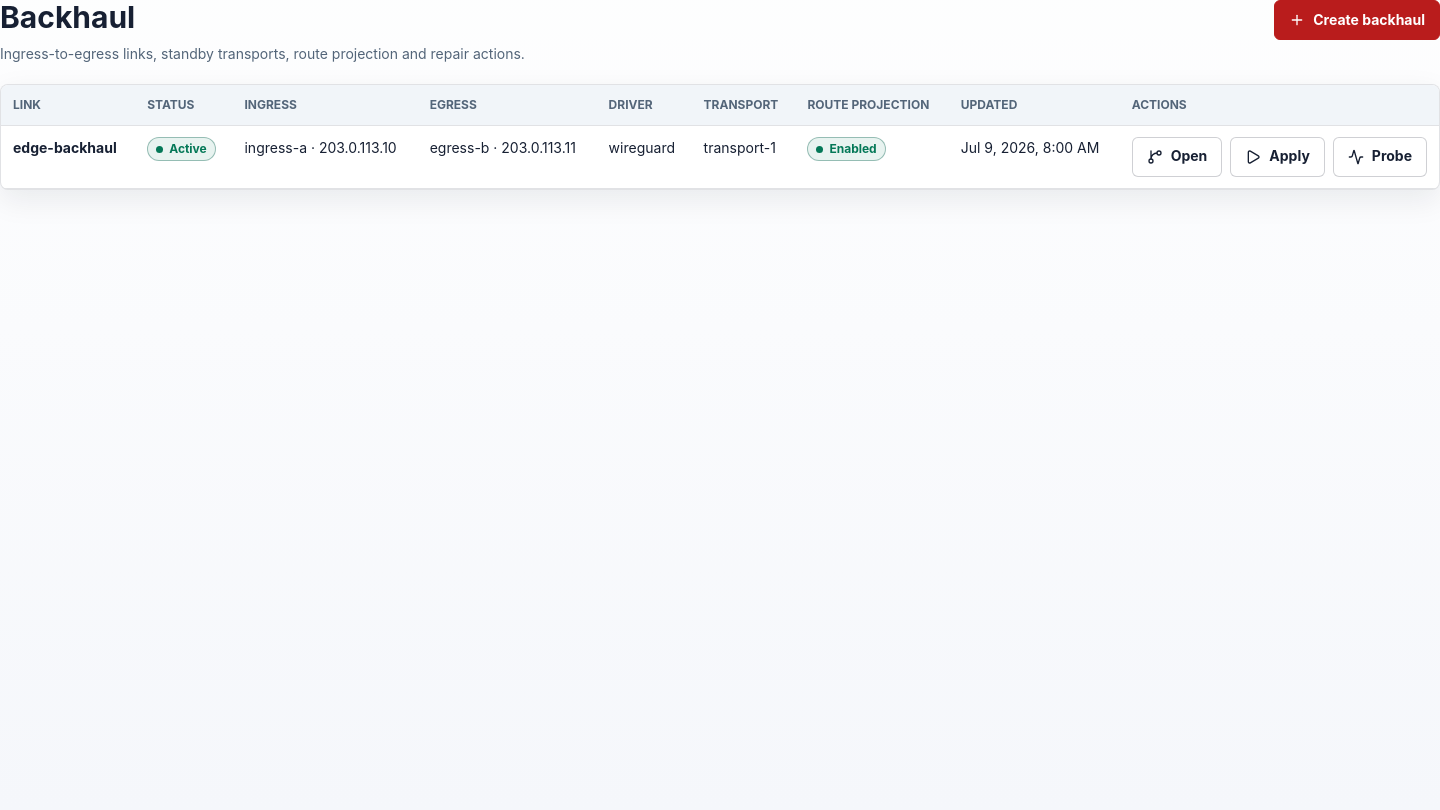
Test case: Backhaul and RoutePolicy workflows › removes a Backhaul link only after explicit confirmation
The image size is (1440, 810).
Expected: the text "edge-backhaul" is shown, [13,138,117,156]
Click the button "Open".
click(1177, 156)  # box [1132,136,1222,176]
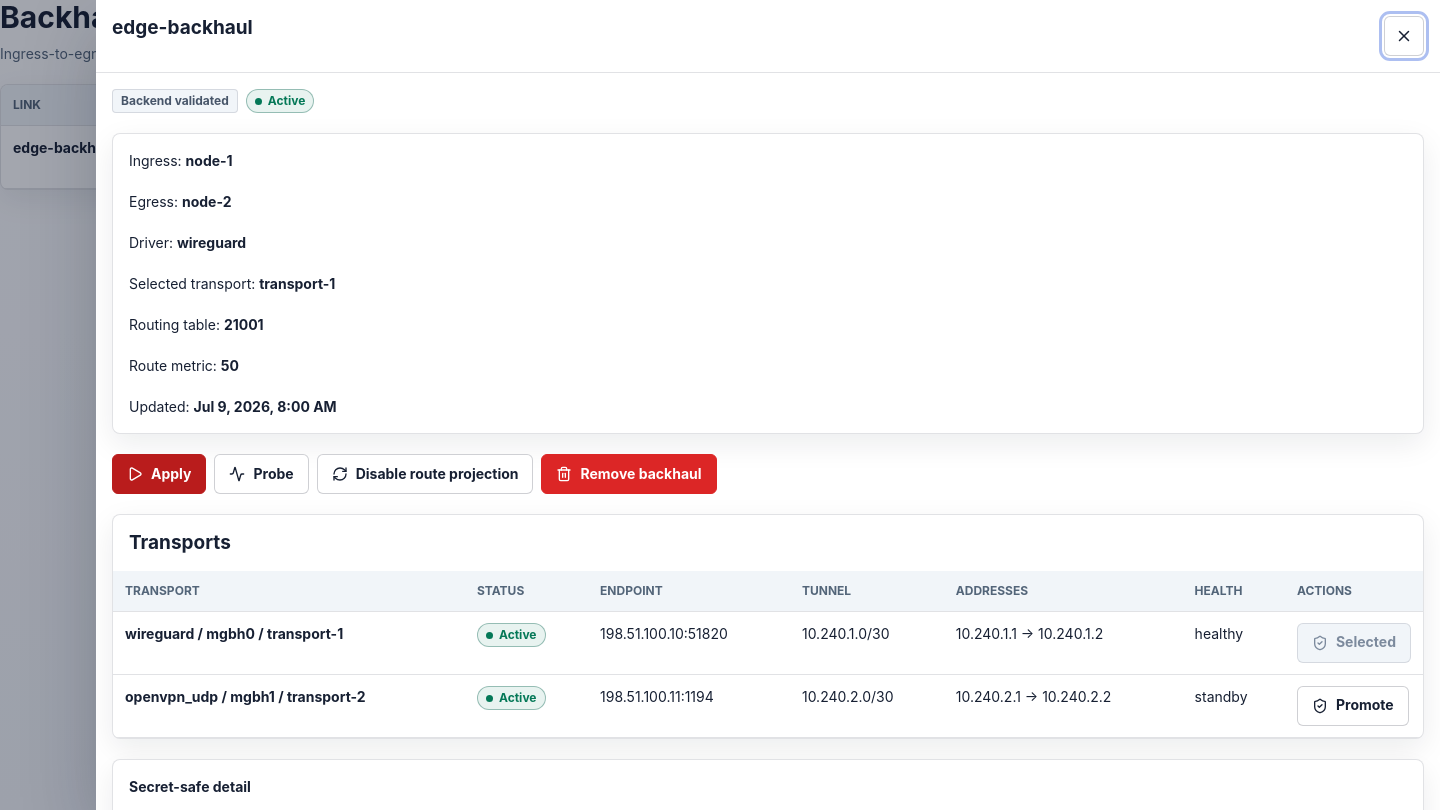
Click the button "Remove backhaul".
click(629, 474)  # box [542,454,717,494]
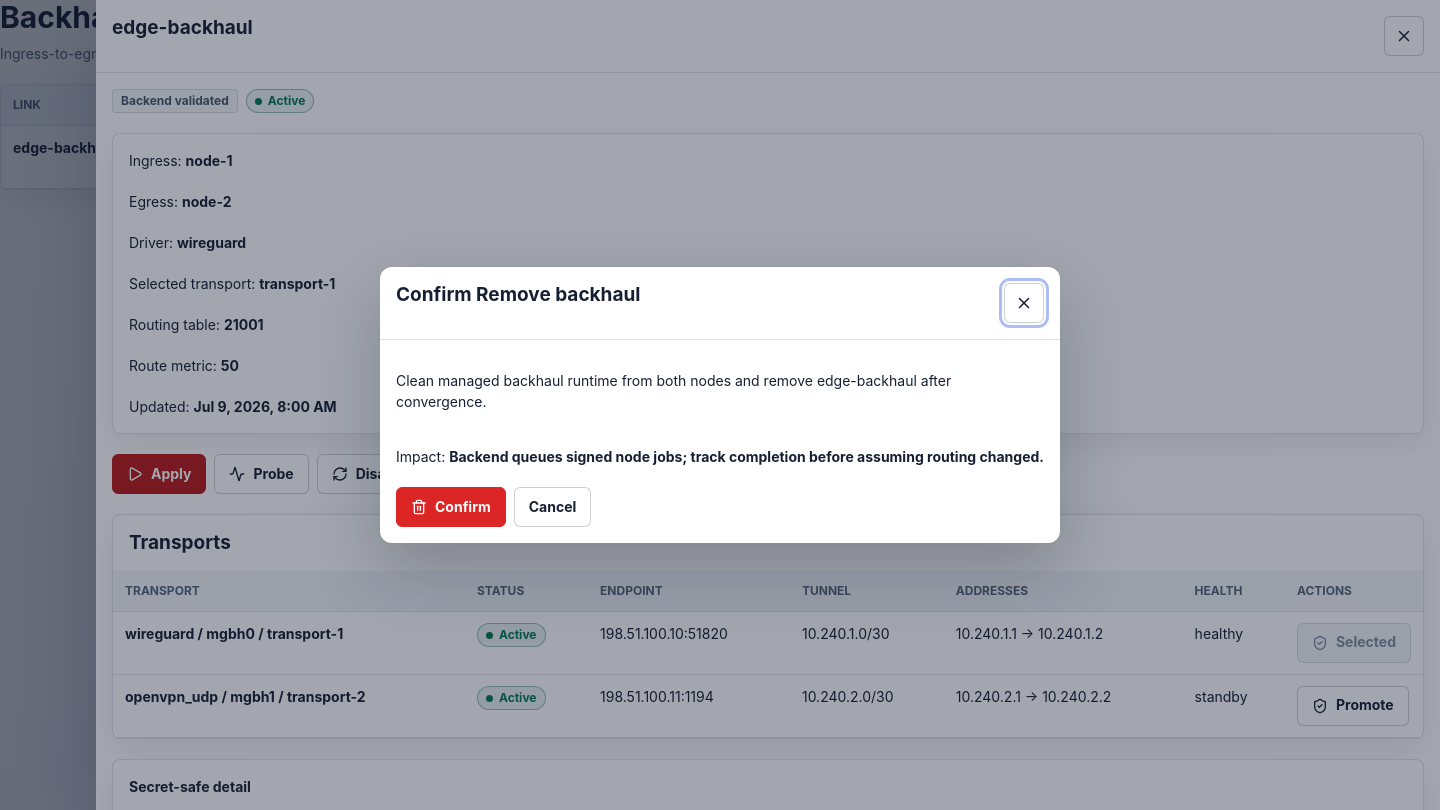
Click the button "Confirm".
click(451, 507)  # box [396,487,506,527]
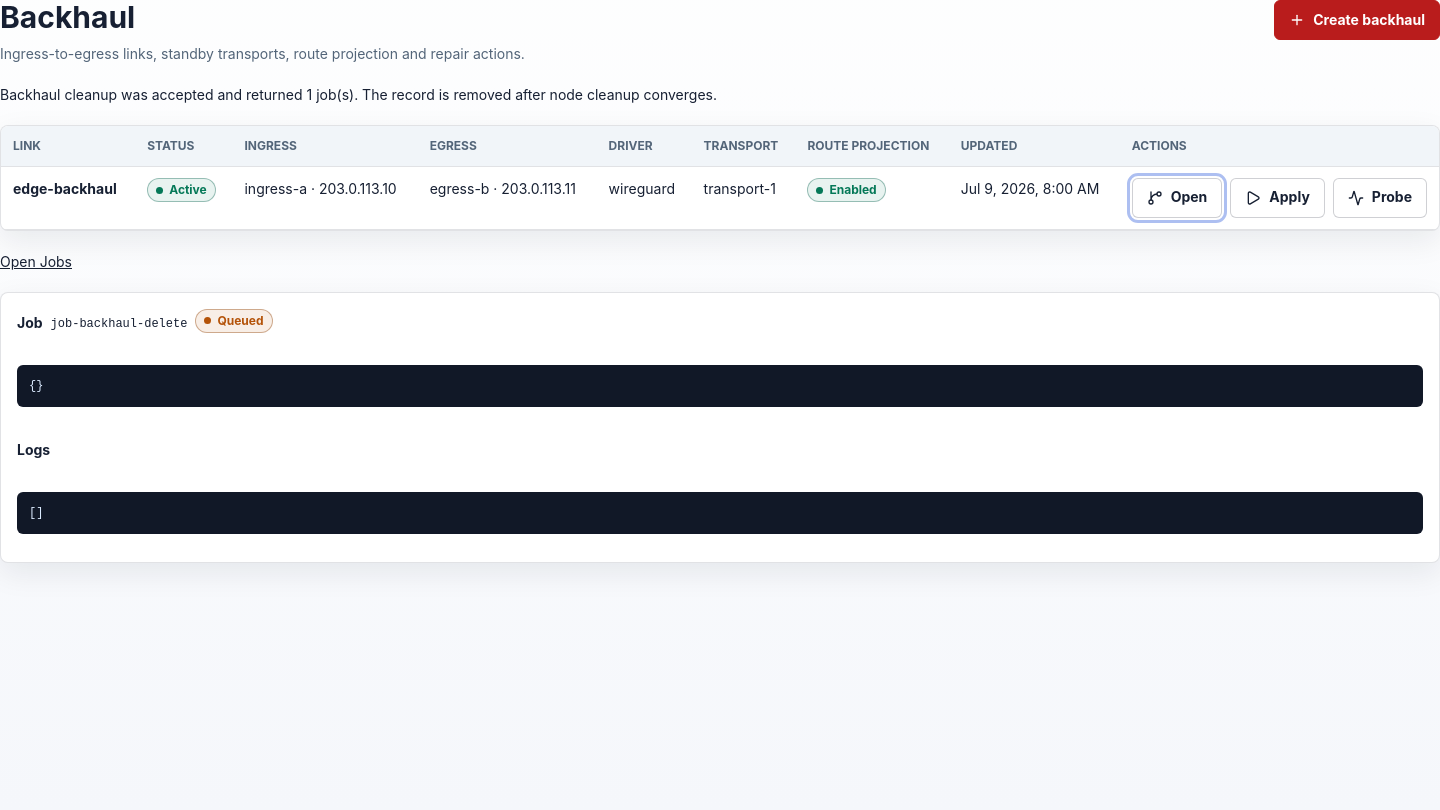
Expected: the text "job-backhaul-delete" is shown, [51,314,187,332]
